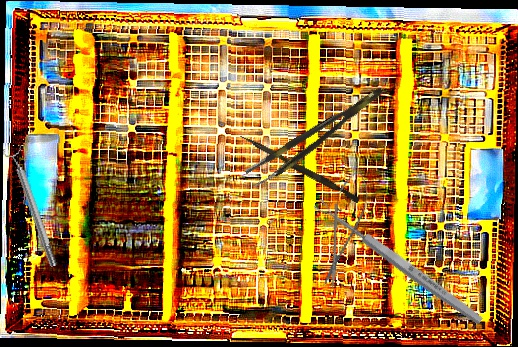Fixation Ring: (1, 143, 64, 270)
Micro Scissor: (313, 165, 375, 292)
Pusher: (237, 133, 362, 204)
Surgical Spoon: (313, 196, 485, 328)
Tissue Forceps: (243, 85, 392, 190)
